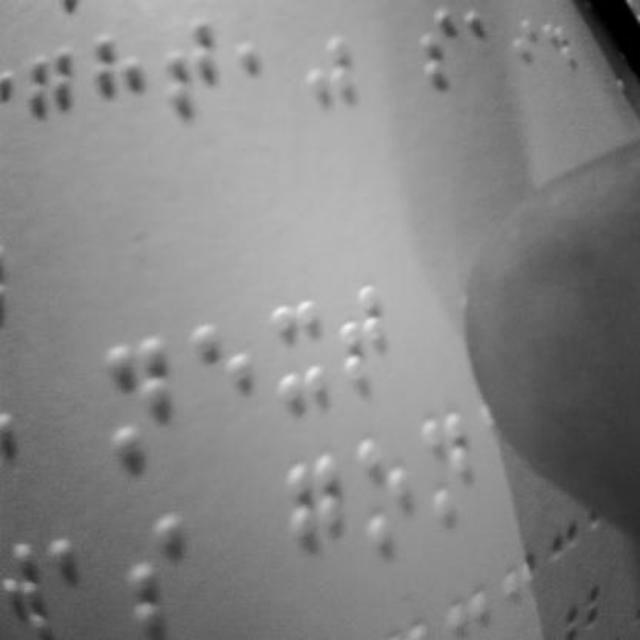braiile: (98, 331, 176, 474), (125, 496, 197, 640), (190, 314, 260, 448), (284, 456, 352, 588), (160, 10, 224, 140), (351, 430, 414, 560), (231, 2, 295, 120), (420, 398, 476, 532), (90, 28, 152, 148), (273, 292, 331, 412), (20, 41, 78, 156), (339, 276, 397, 389), (416, 5, 460, 97)
